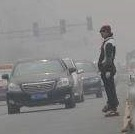person: (97, 22, 118, 117)
